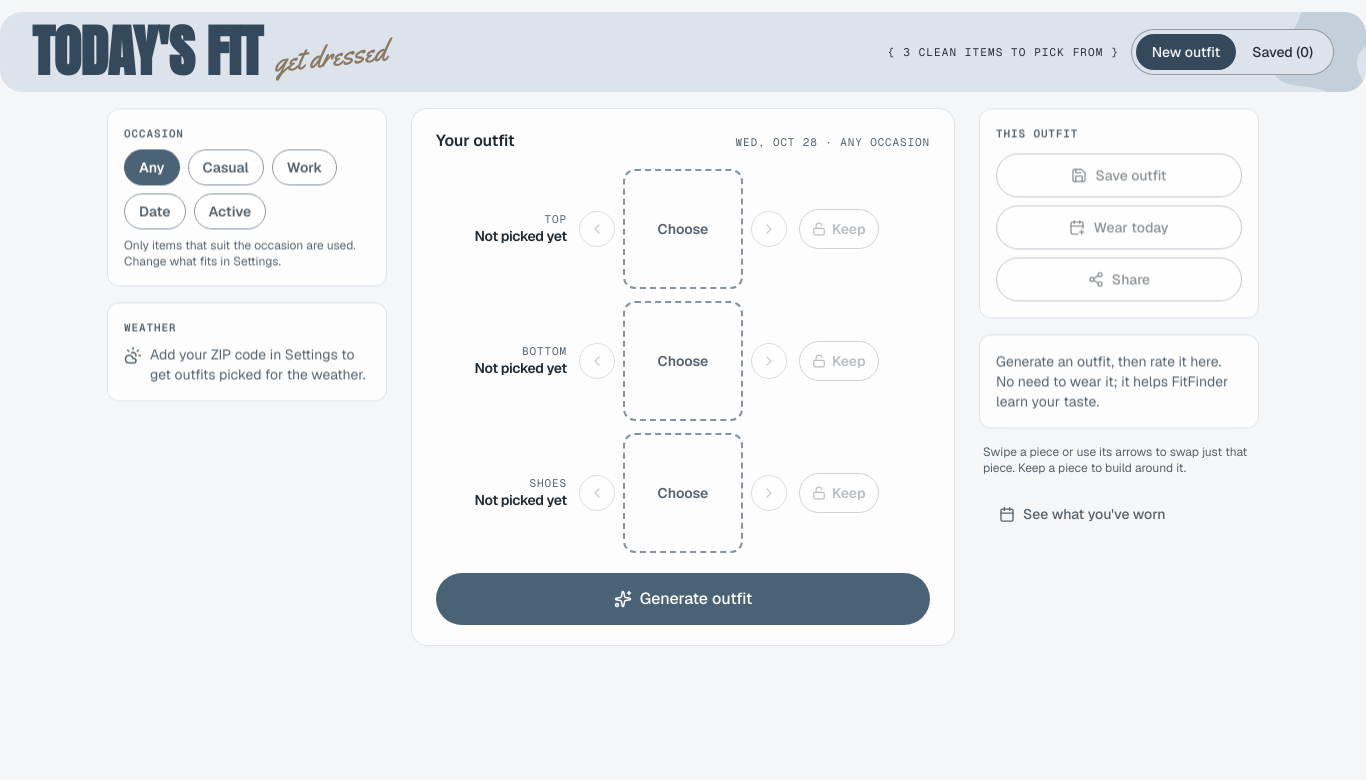
OutfitGenerator › shows the outfit's palette once it lands, and themes the screen from it
Click the button "Generate outfit".
click(683, 599)  # box [436,573,930,625]
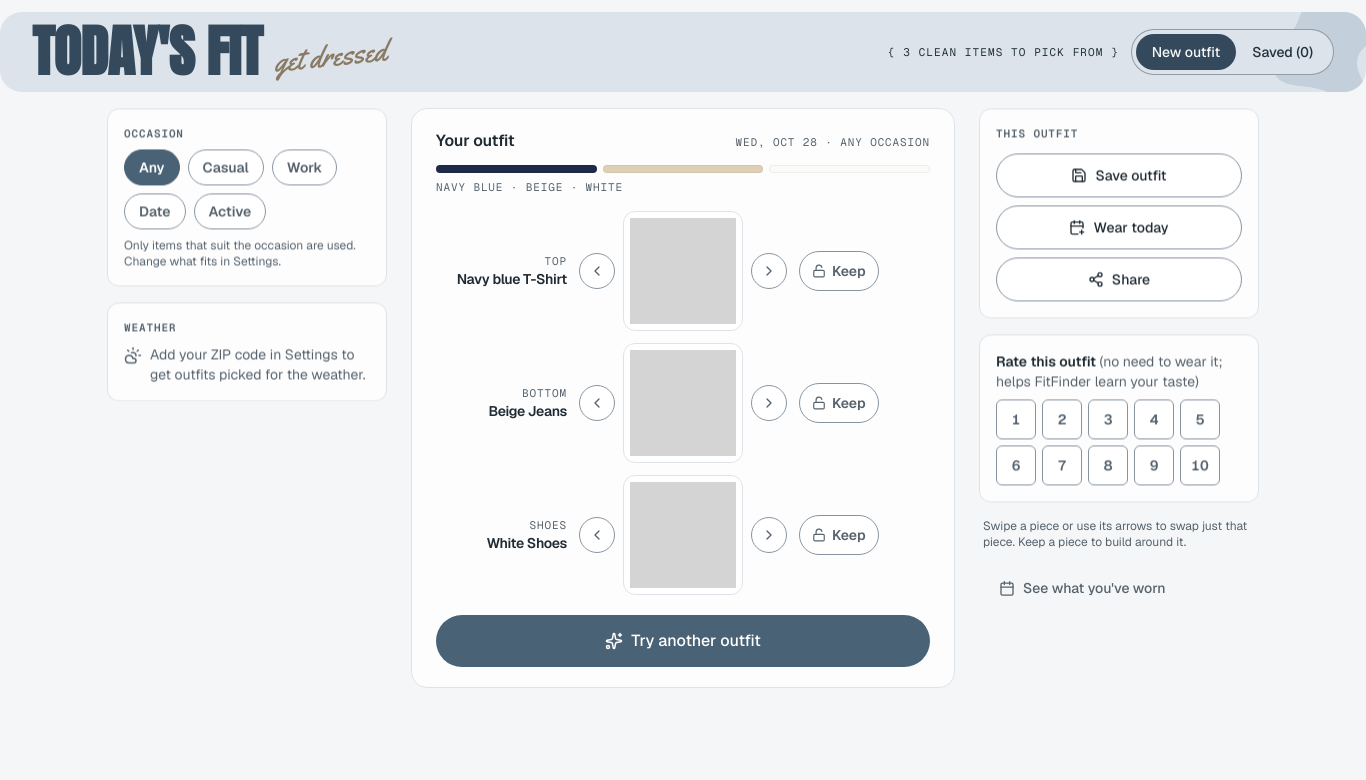
Result: the text "Navy Blue · Beige · White" is shown at [435,179,623,194]
